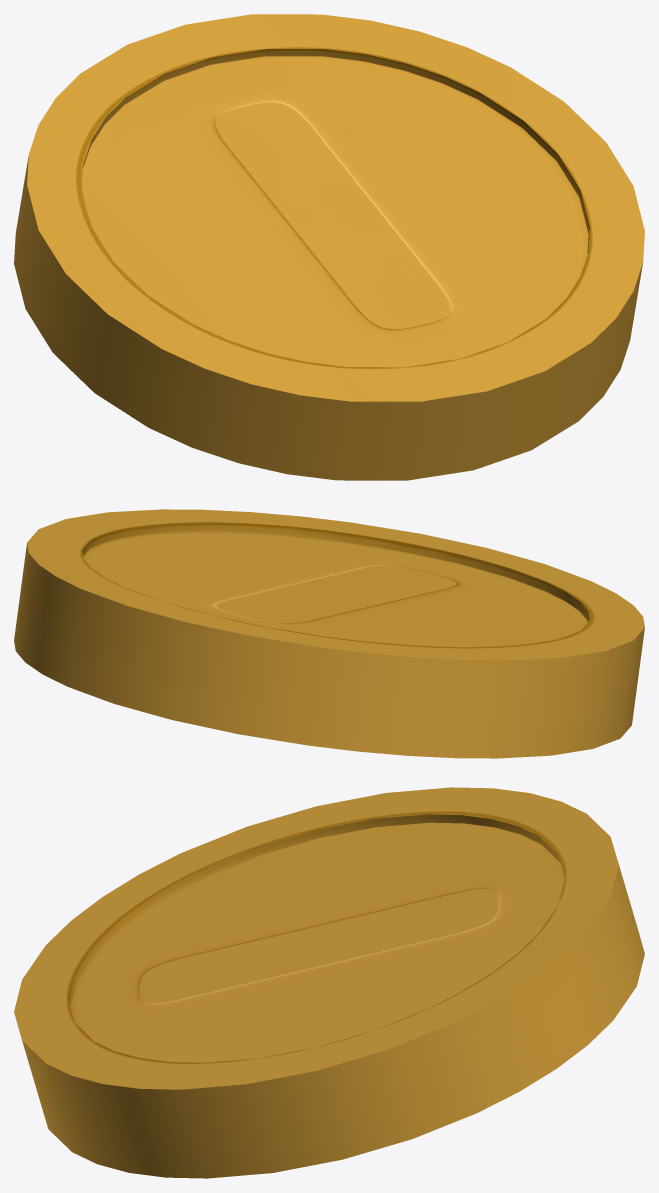
The model's file is GoldCoin.fbx.
The picture shows the model from 3 angles, top to bottom: view 1: azimuth 30°, elevation 25°; view 2: azimuth 150°, elevation 25°; view 3: azimuth 270°, elevation 25°; orthographic projection.
Parts seen in each view (by area): view 1: Coin; view 2: Coin; view 3: Coin.
Part boxes in pixels (left/top/right/bottom): Coin: left=14, top=14, right=644, bottom=480; Coin: left=14, top=509, right=644, bottom=758; Coin: left=14, top=787, right=644, bottom=1178.
Bounding box in the file's own units: 276 × 115 × 278.
1 material, 1 textured.
